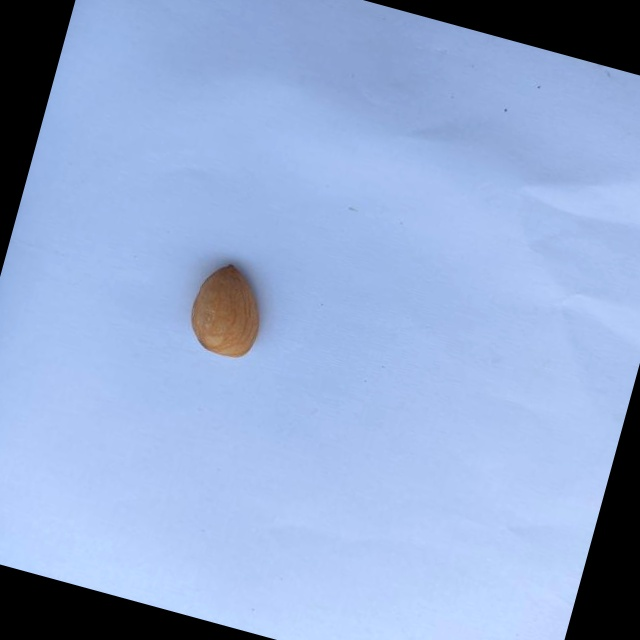grade2: (178, 254, 281, 368)
